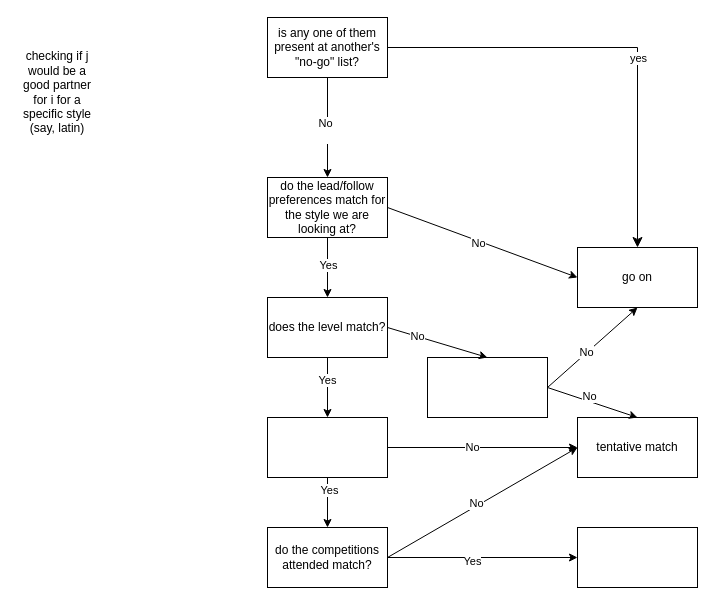
Some shapes in this 715 by 605 pixel diagram are drawn without their labels. Each missing label, with the centre of its shape:
"do practice/comp focuses match?" belongs at [327,447].
"do the mixed preferences match?" belongs at [487,387].
"firm match" belongs at [637,557].
